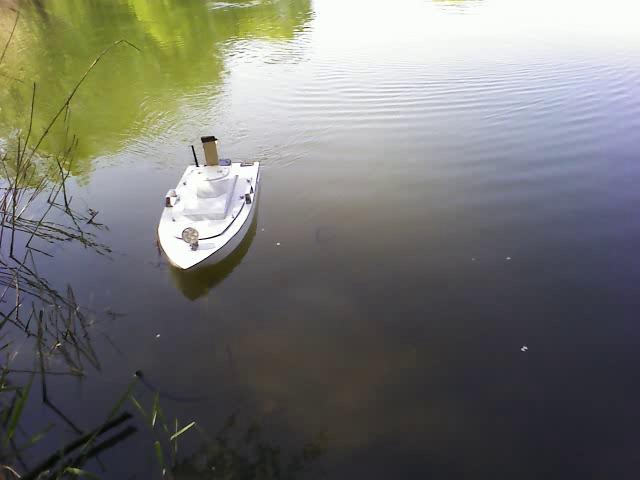boat: (157, 149, 263, 277)
